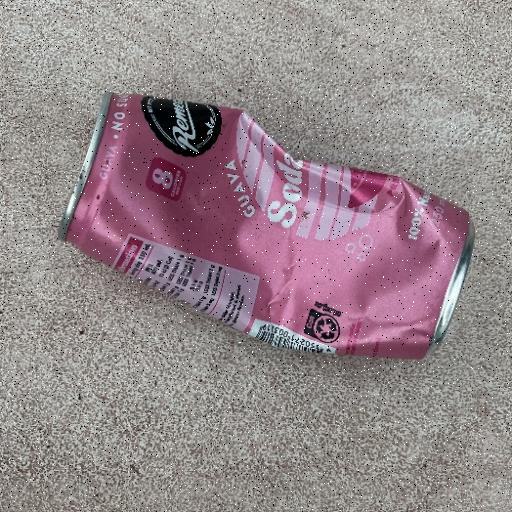Metal: (57, 89, 476, 361)
